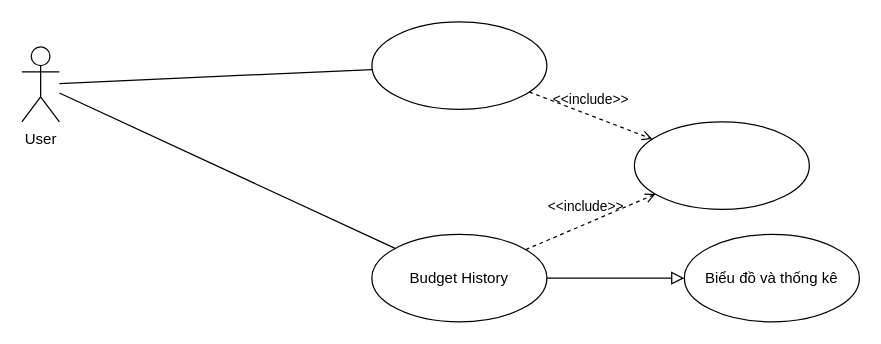
Some shapes in this 881 by 344 pixel diagram are drawn without their labels. Here are the shapes that lost their labels. From the top down, the centre of each, then its label:
At point 459,65: "Thêm Budget Account".
At point 721,165: "Cập nhật Budget History".
